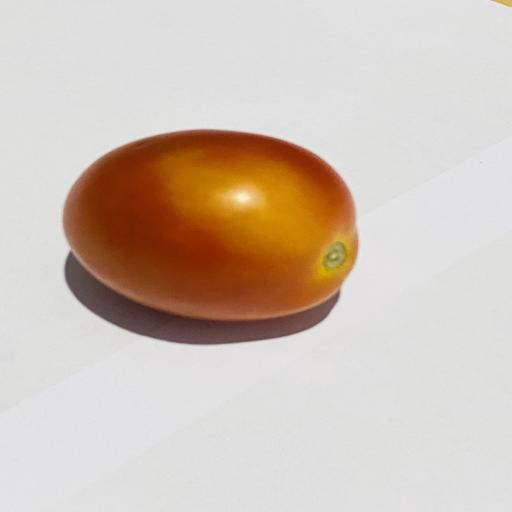ripe: (63, 130, 358, 320)
